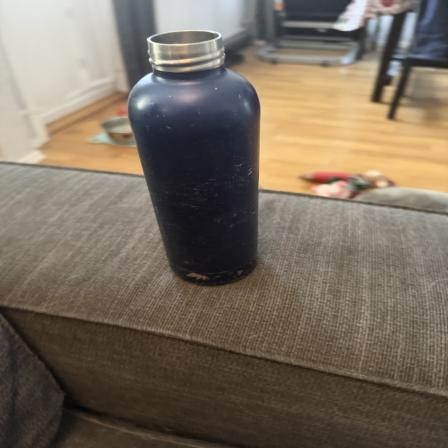blue_bottle: (124, 30, 262, 287)
